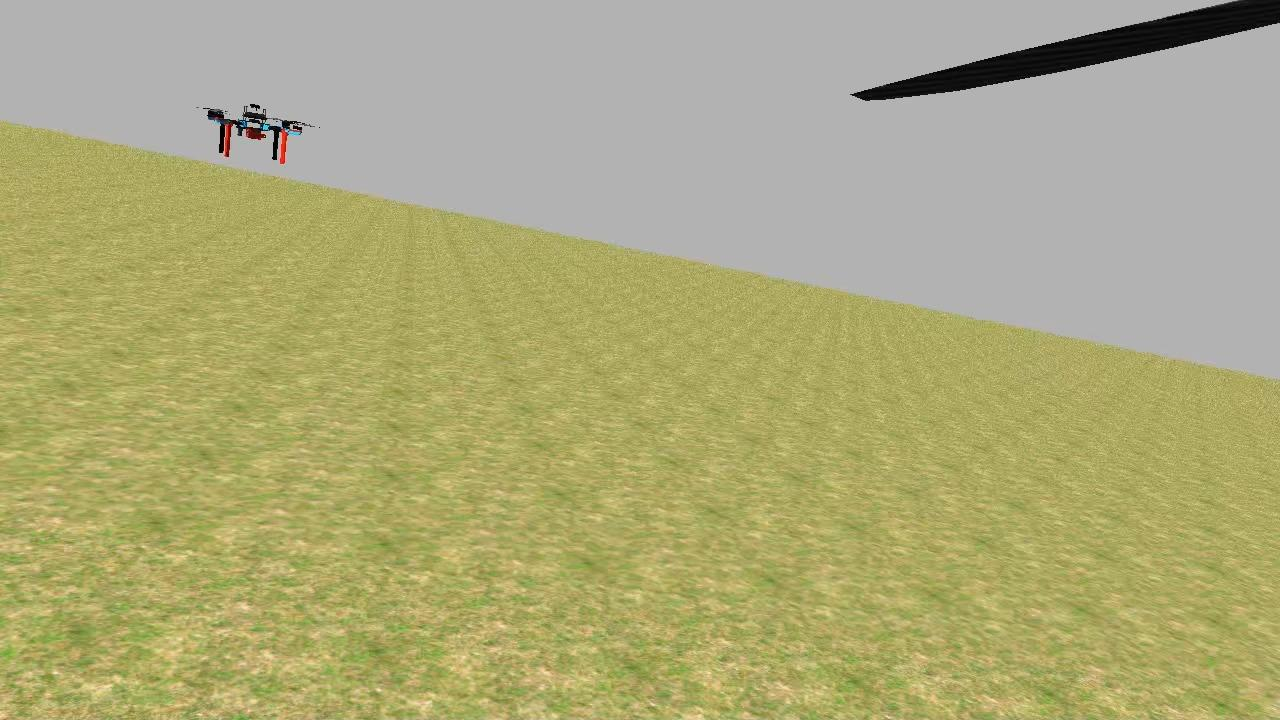UAV: (202, 96, 314, 168)
